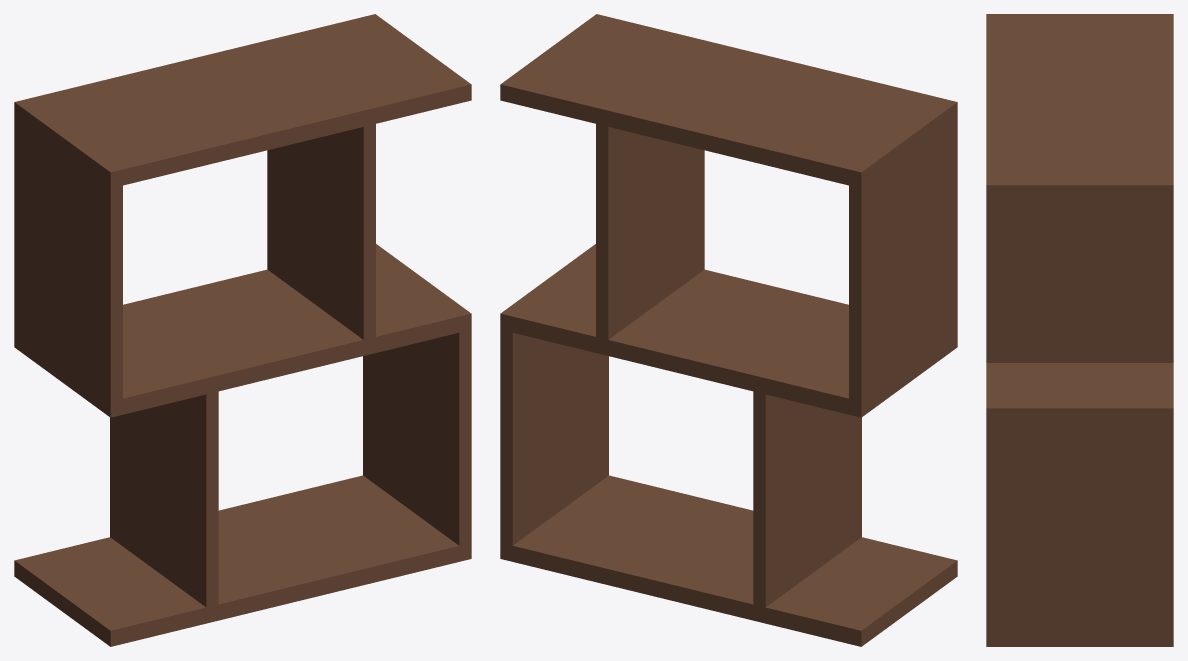
The picture shows the model from 3 angles, left to right: view 1: azimuth 30°, elevation 25°; view 2: azimuth 150°, elevation 25°; view 3: azimuth 270°, elevation 25°; orthographic projection. The views are drawn at different scales.
Parts seen in each view (by area): view 1: Body; view 2: Body; view 3: Body.
Boxes of the visible parts, x1=… form: Body: x1=14, y1=14, x2=471, y2=646; Body: x1=500, y1=14, x2=957, y2=646; Body: x1=986, y1=14, x2=1173, y2=646.
Bounding box in the file's own units: 0.585 × 0.735 × 0.27.
